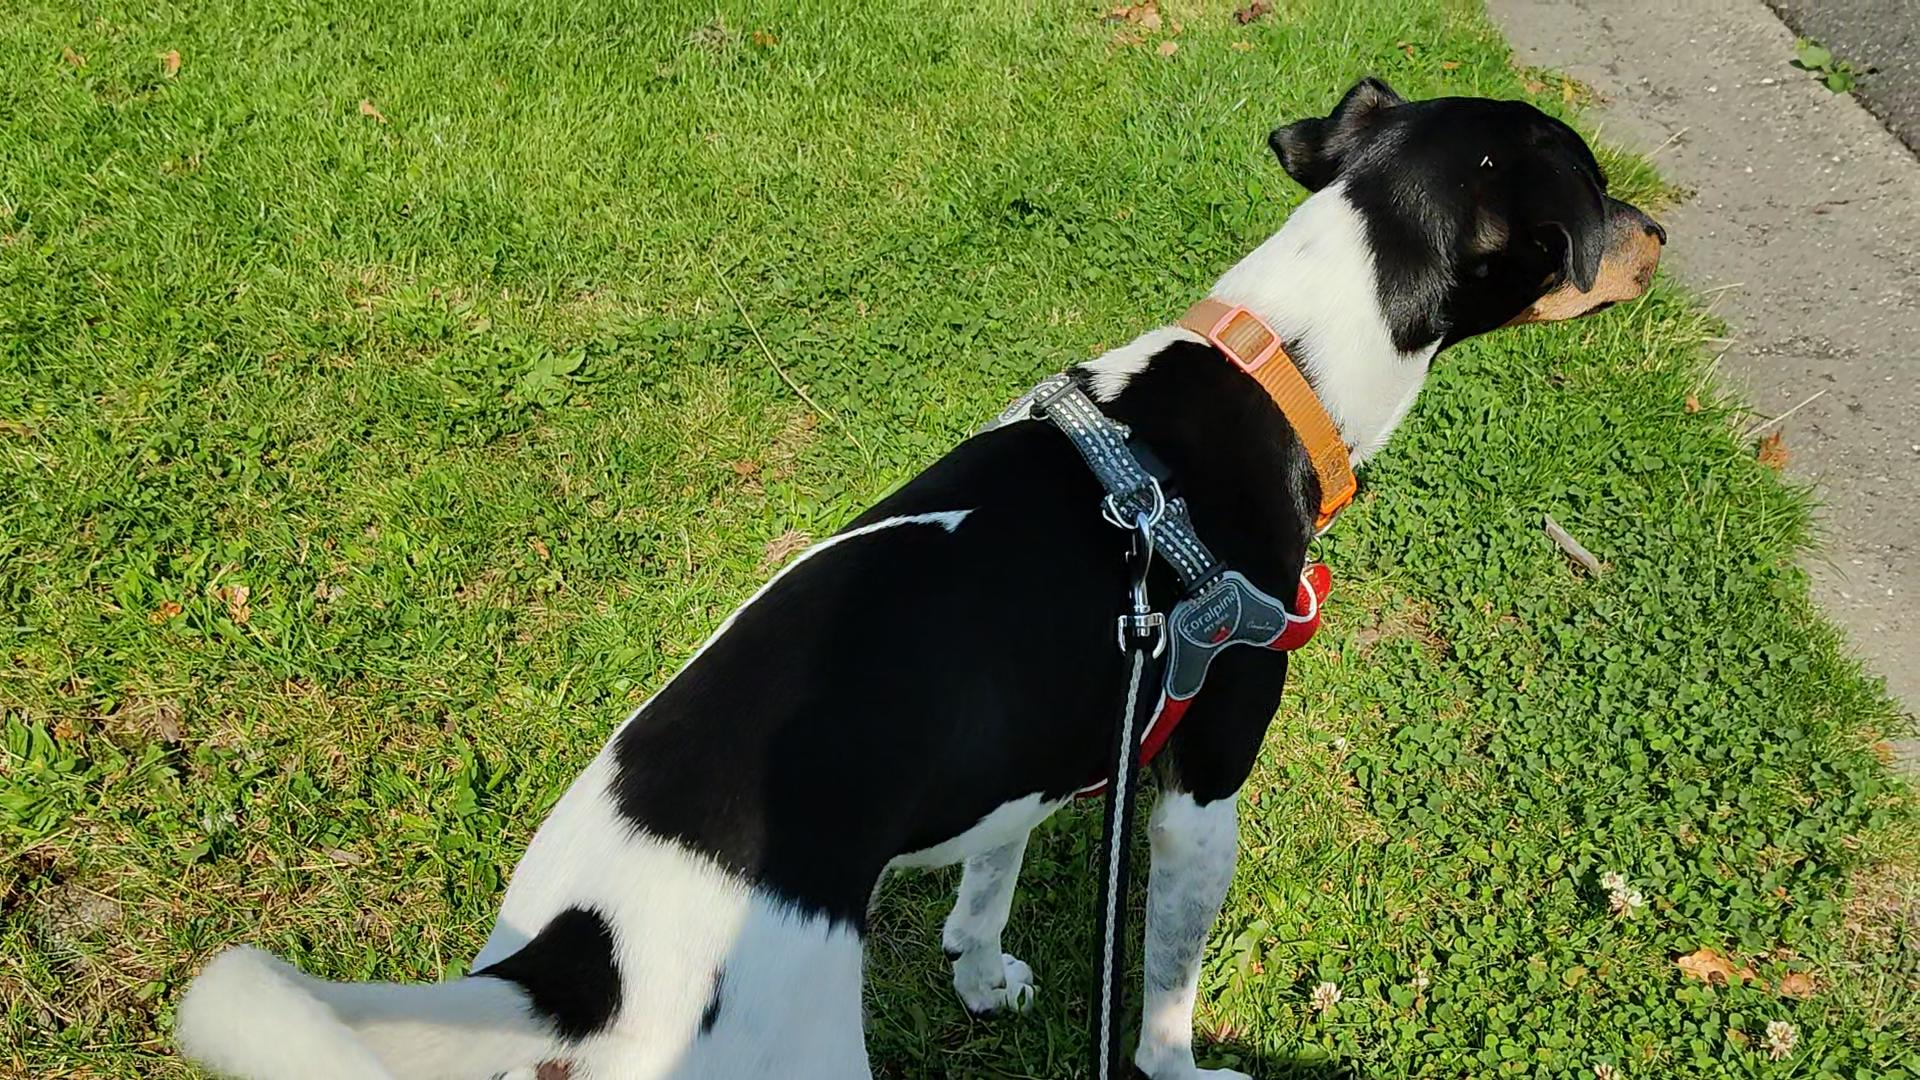Dog: (164, 67, 1669, 1079)
